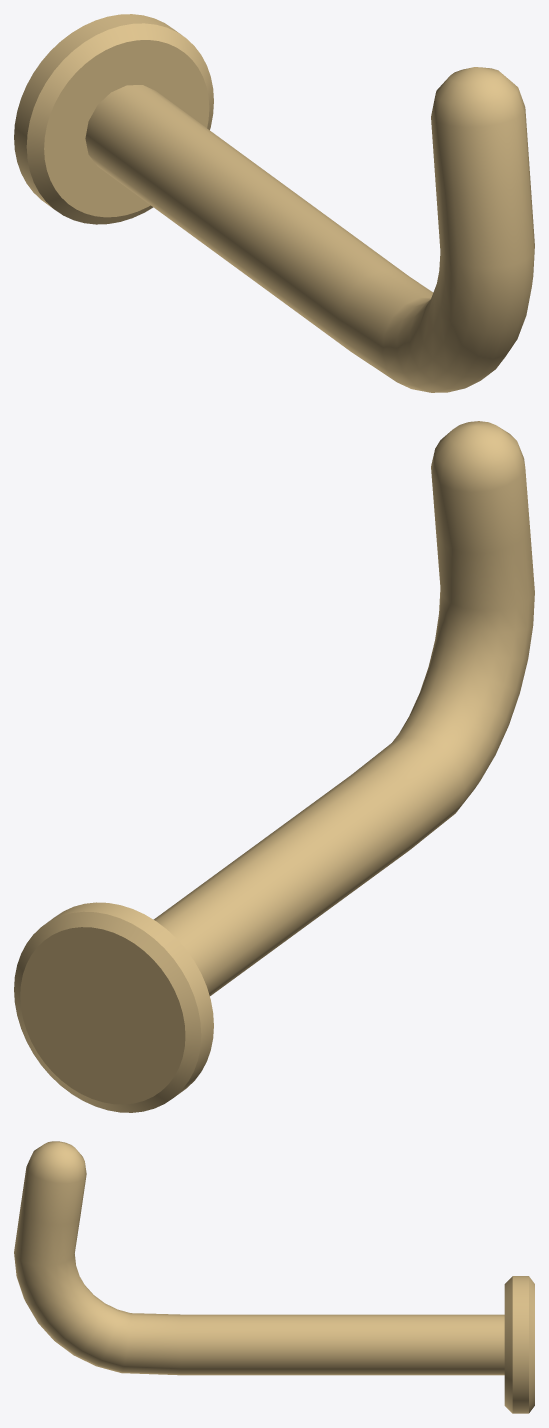
The model's file is Kit_KeyHook.fbx.
3 views of the same model, one above another, from view 1: azimuth 30°, elevation 25°; view 2: azimuth 150°, elevation 25°; view 3: azimuth 270°, elevation 25° (orthographic). The views are drawn at different scales.
Visible parts, largest first — view 1: Kit_KeyHook_LOD0; view 2: Kit_KeyHook_LOD0; view 3: Kit_KeyHook_LOD0.
Boxes of the visible parts, box(x1,y1,x2,y2) form: Kit_KeyHook_LOD0: box(14, 14, 534, 392); Kit_KeyHook_LOD0: box(14, 421, 534, 1112); Kit_KeyHook_LOD0: box(14, 1141, 534, 1413).
Size of what is drawn, in the model's own units: 0.0068 by 0.0144 by 0.0257.
